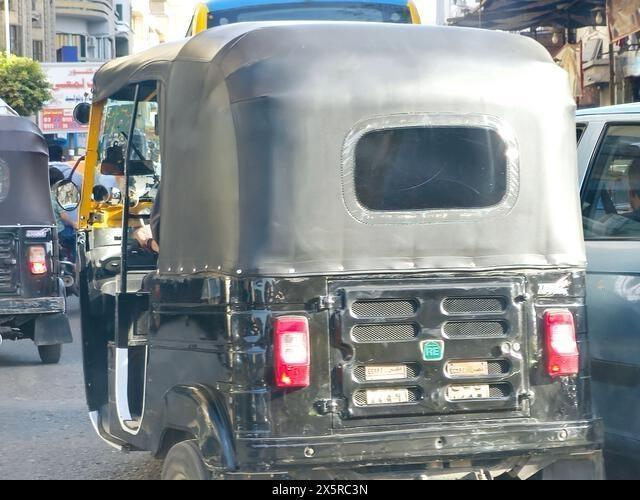keke: (39, 7, 555, 480), (0, 96, 70, 376)
